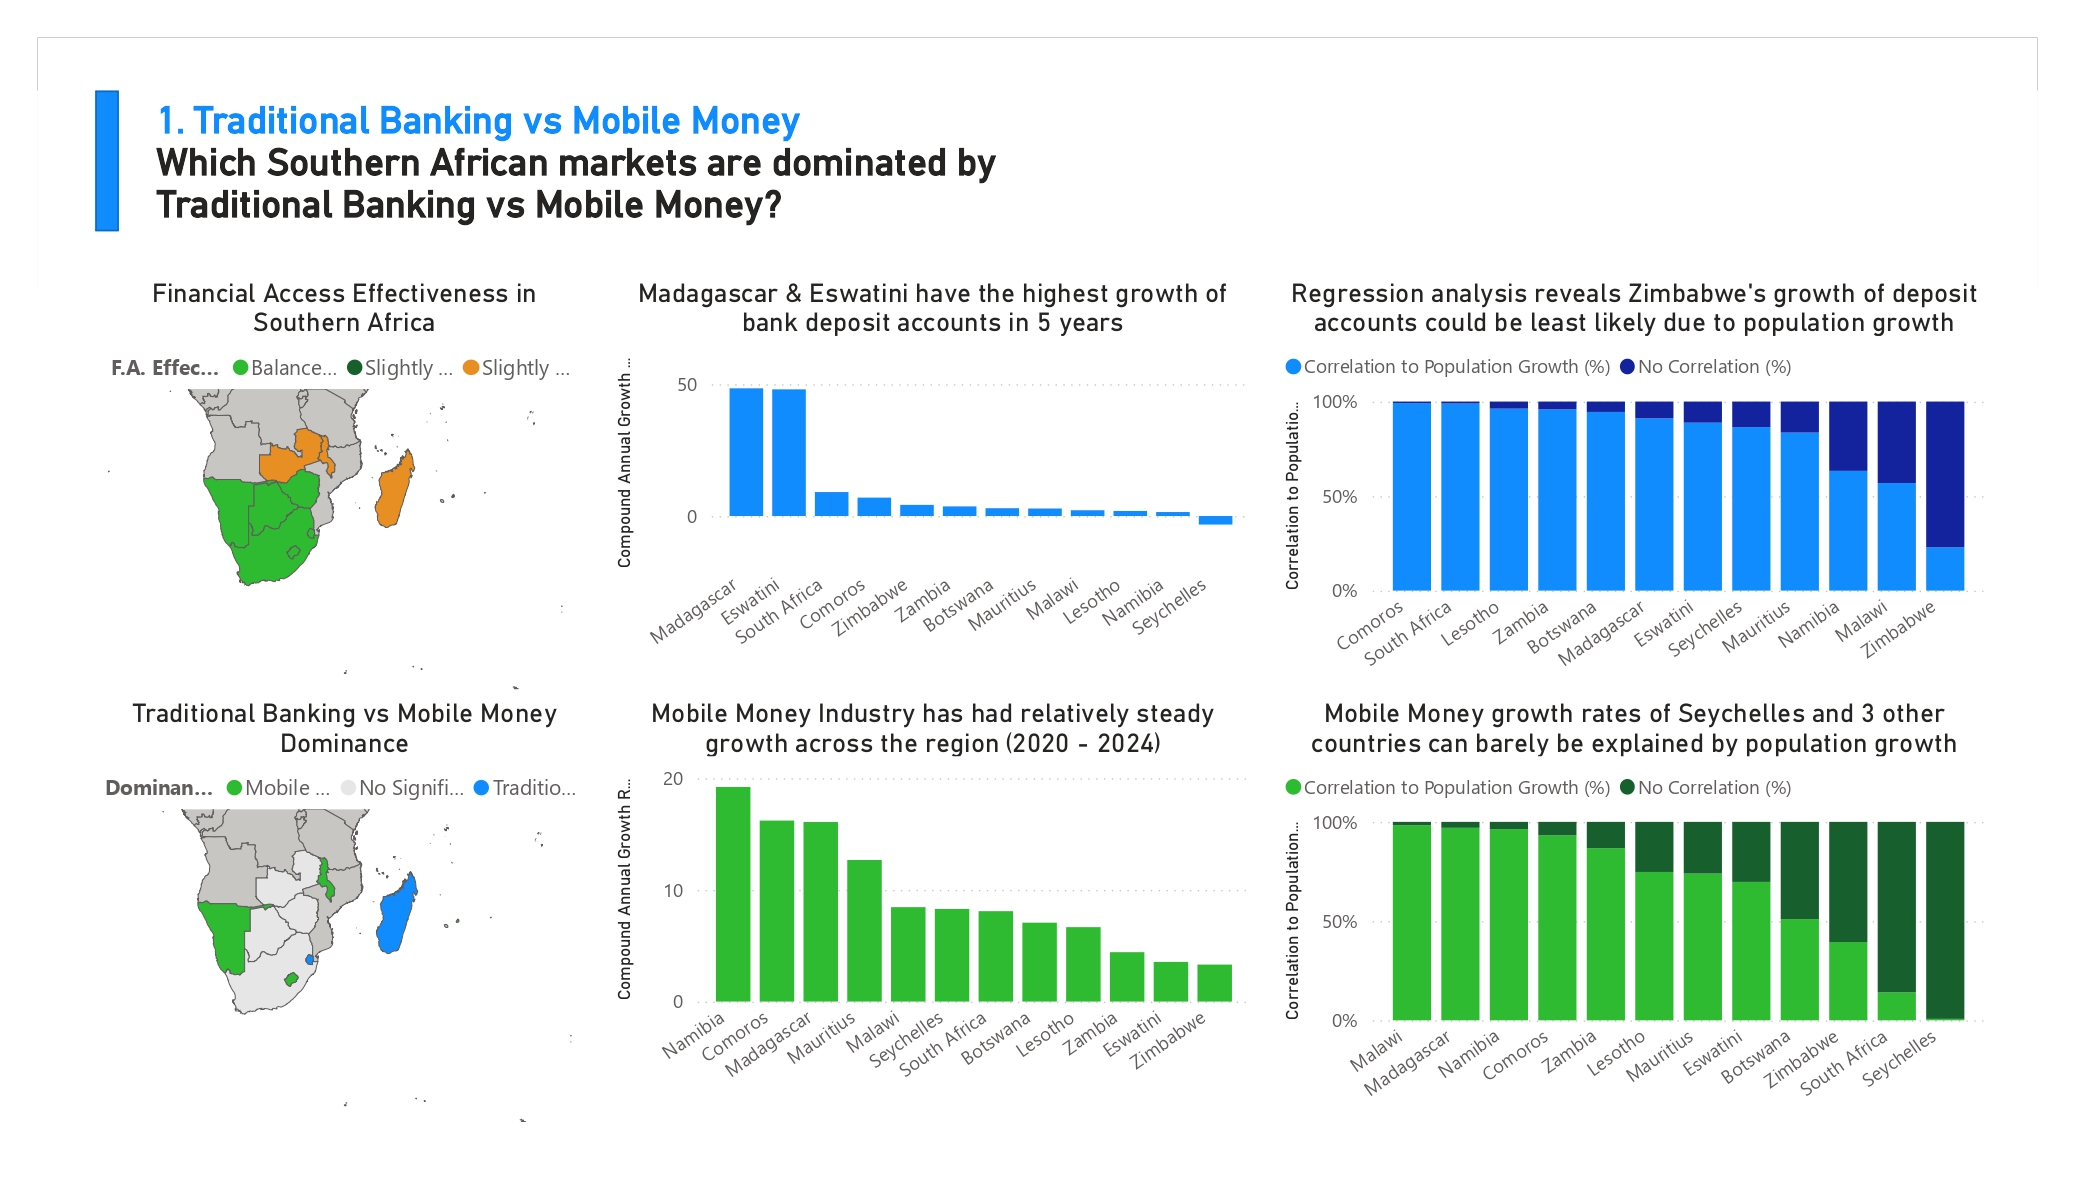

The dashboard page shown, as its layout file describes it:
{"tool":"powerbi","page":{"name":"1. Market Expansion Analysis","canvas":[1280,720],"ordinal":1},"visuals":[{"type":"shapeMap","title":"Financial Access Effectiveness in Southern Africa","fields":{"Category":["1a_1b_imf_dominant_sector.COUNTRY"],"Series":["1a_1b_imf_dominant_sector.Financial Access Effectiveness"],"Value":["Sum(1a_1b_imf_dominant_sector.Average Financial Gap)"]},"box":[35.3,152.9,322.5,268.8],"z":0},{"type":"hundredPercentStackedColumnChart","title":"Regression analysis reveals Zimbabwe''s growth of deposit accounts could be least likely due to population growth","fields":{"Category":["1a_1b_imf_dominant_sector.COUNTRY"],"Y":["Sum(1c_imf_deposit_mobile_correlation.deposit_correlation_perc)","Sum(1c_imf_deposit_mobile_correlation.no_deposit_corr_perc)"]},"box":[792.9,152.9,458.6,268.8],"z":1000},{"type":"hundredPercentStackedColumnChart","title":"Mobile Money growth rates of Seychelles and 3 other countries can barely be explained by population growth","fields":{"Category":["1a_1b_imf_dominant_sector.COUNTRY"],"Y":["Sum(1c_imf_deposit_mobile_correlation.mobile_correlation_perc)","Sum(1c_imf_deposit_mobile_correlation.no_mobile_corr_perc)"]},"box":[792.9,421.6,458.6,277.2],"z":2000},{"type":"clusteredColumnChart","title":"Madagascar & Eswatini have the highest growth of bank deposit accounts in 5 years","fields":{"Category":["1a_1b_imf_dominant_sector.COUNTRY"],"Y":["Sum(1a_1b_imf_dominant_sector.5Y CAGR of Deposit Accounts per 1,000 adults (%))"]},"box":[364.5,152.9,416.6,268.8],"z":3000},{"type":"clusteredColumnChart","title":"Mobile Money Industry has had relatively steady growth across the region (2020 - 2024)","fields":{"Category":["1a_1b_imf_dominant_sector.COUNTRY"],"Y":["Sum(1a_1b_imf_dominant_sector.5Y CAGR of Mobile Money Accounts per 1,000 adults (%))"]},"box":[364.5,421.6,416.6,277.2],"z":4000},{"type":"shapeMap","title":"Traditional Banking vs Mobile Money Dominance","fields":{"Category":["1a_1b_imf_dominant_sector.COUNTRY"],"Series":["1a_1b_imf_dominant_sector.Dominant Sector"],"Value":["Sum(1a_1b_imf_dominant_sector.5Y CAGR of Deposit Accounts (%))"]},"box":[35.3,421.6,322.5,277.2],"z":5000},{"type":"shape","box":[37,33.6,15.1,90.7],"z":6000},{"type":"textbox","box":[70.6,33.6,582.9,102.5],"z":7000}]}

Visuals, with their boxes in screenshot pixels (x1, y1, x2, y2):
"Financial Access Effectiveness in Southern Africa" shapeMap: Rect(93, 276, 597, 696)
"Regression analysis reveals Zimbabwe''s growth of deposit accounts could be least likely due to population growth" hundredPercentStackedColumnChart: Rect(1276, 276, 1993, 696)
"Mobile Money growth rates of Seychelles and 3 other countries can barely be explained by population growth" hundredPercentStackedColumnChart: Rect(1276, 696, 1993, 1129)
"Madagascar & Eswatini have the highest growth of bank deposit accounts in 5 years" clusteredColumnChart: Rect(607, 276, 1258, 696)
"Mobile Money Industry has had relatively steady growth across the region (2020 - 2024)" clusteredColumnChart: Rect(607, 696, 1258, 1129)
"Traditional Banking vs Mobile Money Dominance" shapeMap: Rect(93, 696, 597, 1129)
shape: Rect(95, 90, 119, 232)
textbox: Rect(148, 90, 1059, 250)
